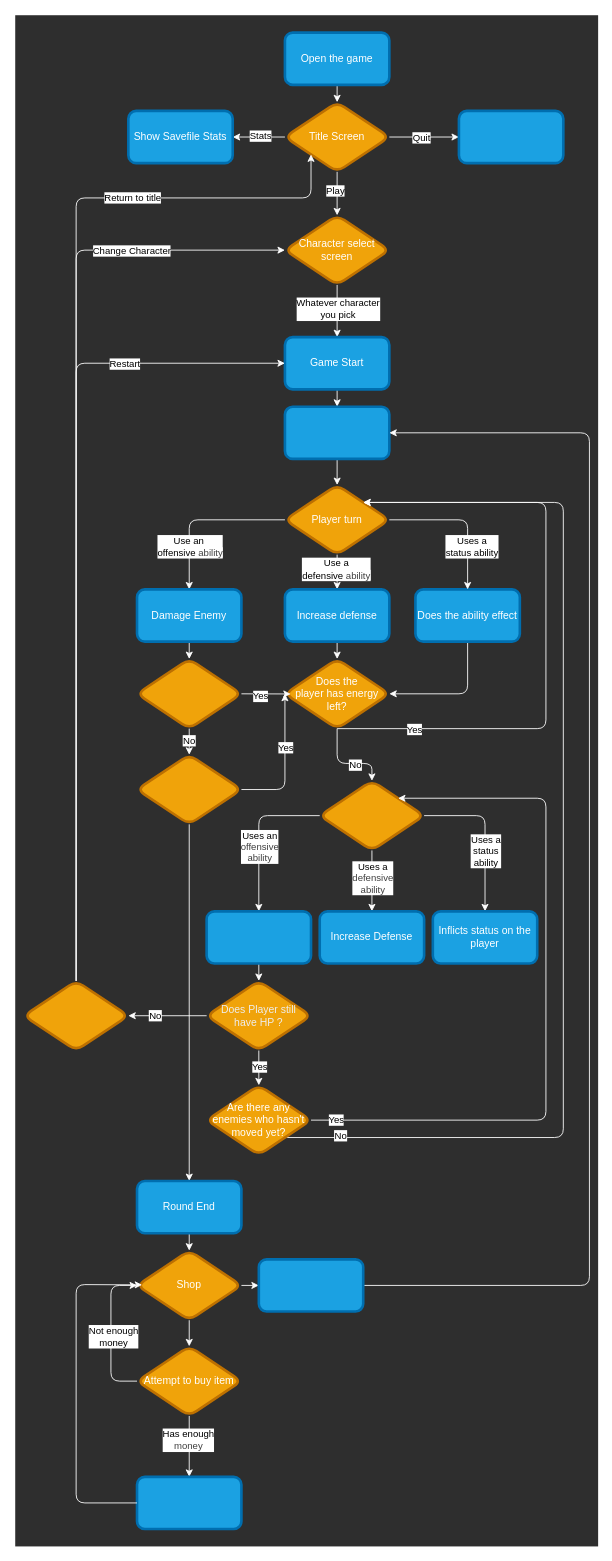
The diagram is 612 pixels wide and 1561 high, and some of its shapes have lost their labels. The shapes that lost their labels are listed below. From the top down, each one's centre as x and y in pixels, then its label:
At (x=510, y=136): "Close Game".
At (x=336, y=432): "Enemy Battle begin".
At (x=188, y=693): "Does the enemy still have HP ?".
At (x=188, y=789): "Are there any enemies left?".
At (x=371, y=815): "Enemy turn".
At (x=258, y=937): "Damage Player".
At (x=75, y=1015): "Game Over".
At (x=310, y=1285): "Leave shop".
At (x=188, y=1502): "Add item to inventory".
